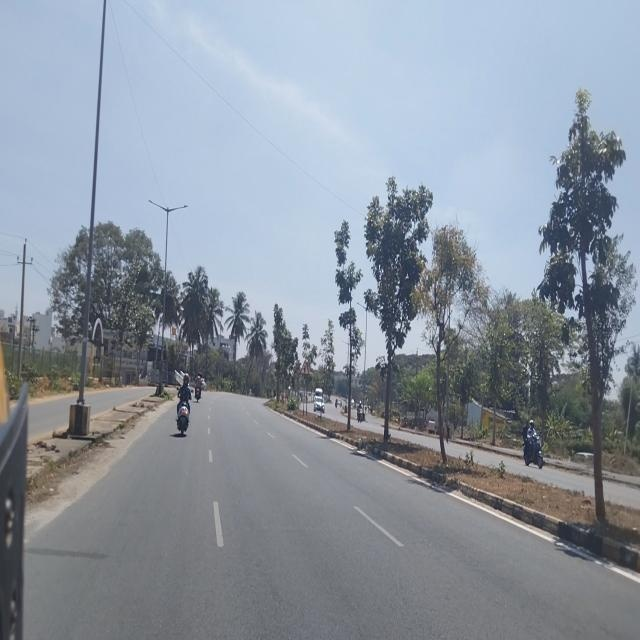bien_nguy_hiem: (299, 359, 310, 375)
